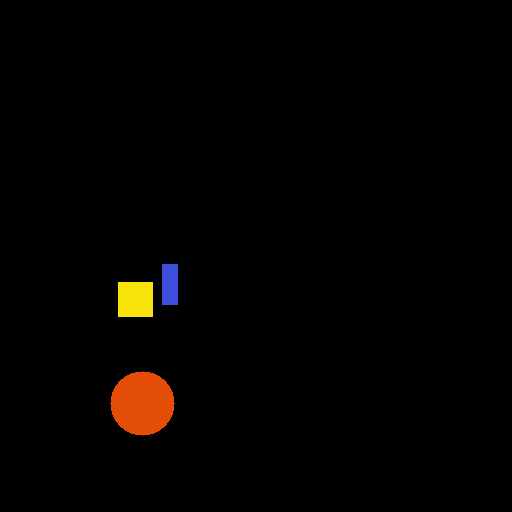circle: (109, 367, 178, 434)
square: (115, 281, 154, 319)
up_rect: (159, 263, 181, 306)
